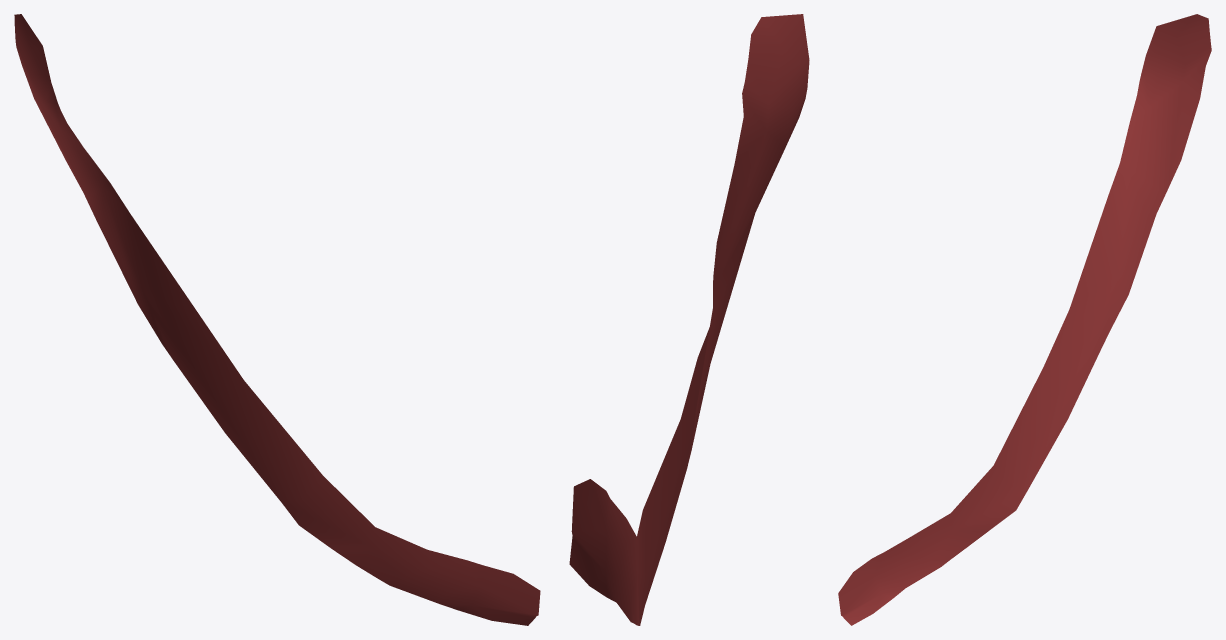
Rendered from thyrohyoid-muscle-er.glb.
3 views of the same model, side by side, from view 1: azimuth 30°, elevation 25°; view 2: azimuth 150°, elevation 25°; view 3: azimuth 270°, elevation 25° (orthographic). The views are drawn at different scales.
Visible parts, largest first — view 1: Thyrohyoid muscle.er; view 2: Thyrohyoid muscle.er; view 3: Thyrohyoid muscle.er.
Boxes of the visible parts, x1=… form: Thyrohyoid muscle.er: x1=14, y1=14, x2=540, y2=625; Thyrohyoid muscle.er: x1=569, y1=14, x2=809, y2=625; Thyrohyoid muscle.er: x1=838, y1=14, x2=1211, y2=625.
Bounding box in the file's own units: 0.0117 × 0.0192 × 0.0136.
